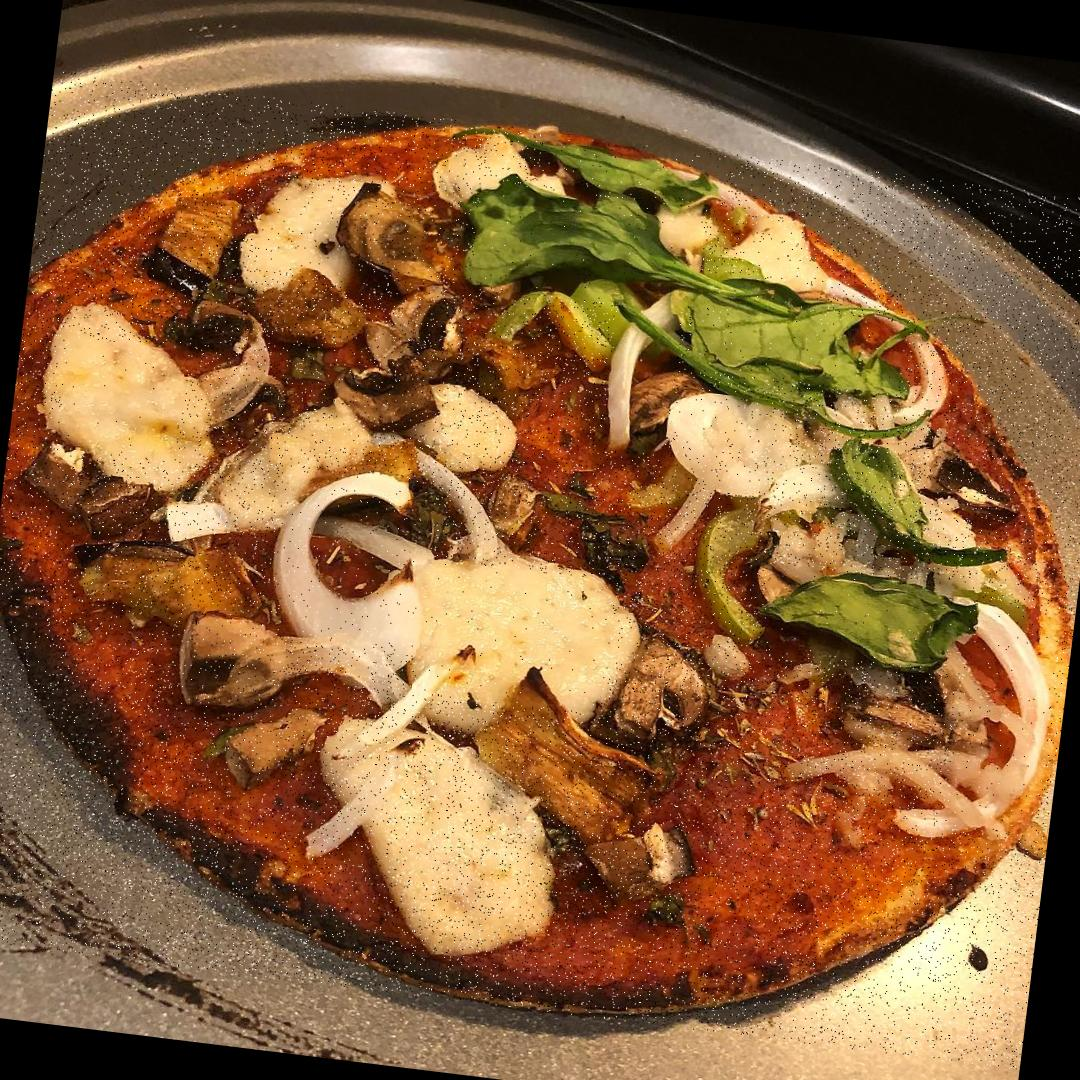Basil: (470, 181, 706, 313), (686, 272, 909, 395), (762, 562, 973, 672), (825, 438, 950, 562), (537, 130, 726, 208)
Cheese: (342, 746, 544, 938), (412, 559, 616, 714), (56, 337, 186, 462), (255, 185, 361, 278), (738, 222, 802, 276), (460, 152, 523, 197)
Mushroom: (174, 605, 293, 720), (338, 181, 454, 292), (615, 624, 717, 747), (215, 698, 329, 803), (329, 346, 448, 437), (614, 361, 712, 441)
Onion: (264, 465, 436, 654), (946, 602, 1061, 834), (600, 283, 684, 456), (662, 389, 784, 498), (756, 456, 847, 530), (896, 320, 956, 424), (827, 276, 908, 322)
Pizza: (0, 70, 1080, 1069)
